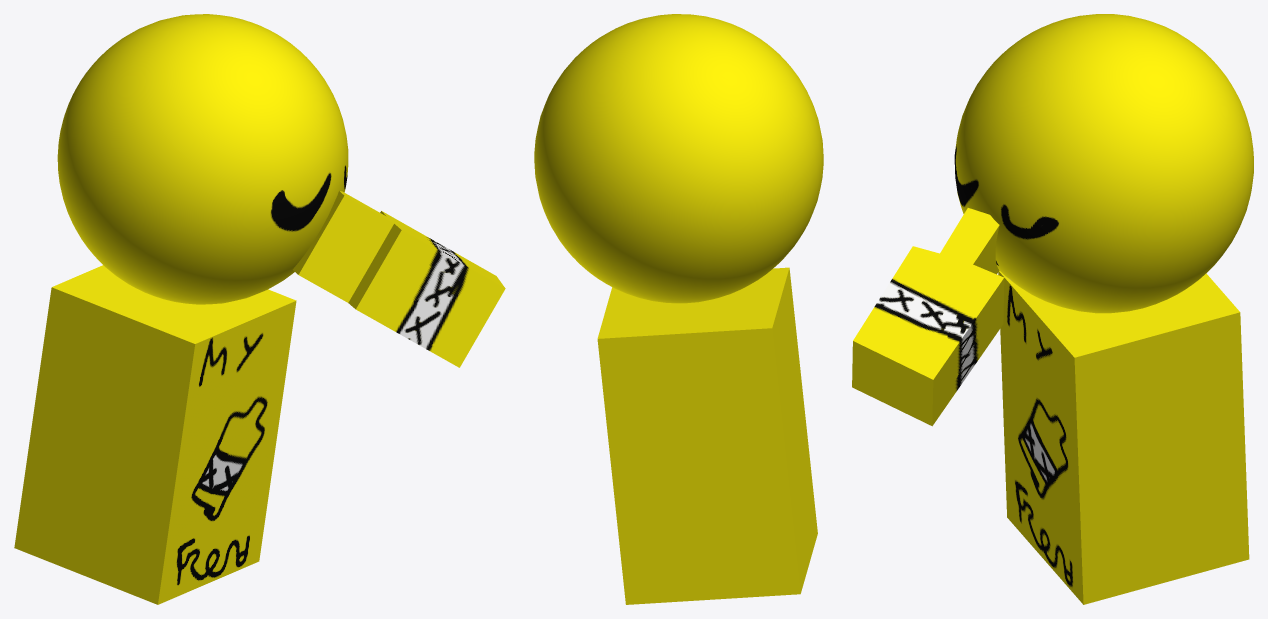
Rendered from Red Guy v2 Story Drugs.glb.
3 views of the same model, side by side, from view 1: azimuth 30°, elevation 25°; view 2: azimuth 150°, elevation 25°; view 3: azimuth 270°, elevation 25° (orthographic). The views are drawn at different scales.
Visible parts, largest first — view 1: mesh_id39, mesh_id27, mesh_id68; view 2: mesh_id27, mesh_id39; view 3: mesh_id27, mesh_id39, mesh_id68.
Boxes of the visible parts, x1,y1,x2,y2 form: mesh_id39: [14, 265, 296, 604]; mesh_id27: [57, 14, 348, 304]; mesh_id68: [292, 191, 505, 367]; mesh_id27: [534, 14, 823, 303]; mesh_id39: [597, 267, 817, 604]; mesh_id27: [954, 14, 1253, 313]; mesh_id39: [998, 271, 1249, 604]; mesh_id68: [852, 208, 1004, 426].
Size of the model in its own units: 0.2905 by 0.4076 by 0.2682.
3 materials, 3 textured.
